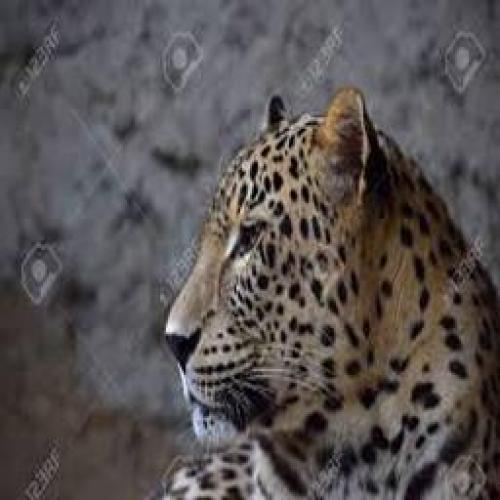amur_leopard-endangered: (160, 78, 500, 498)
